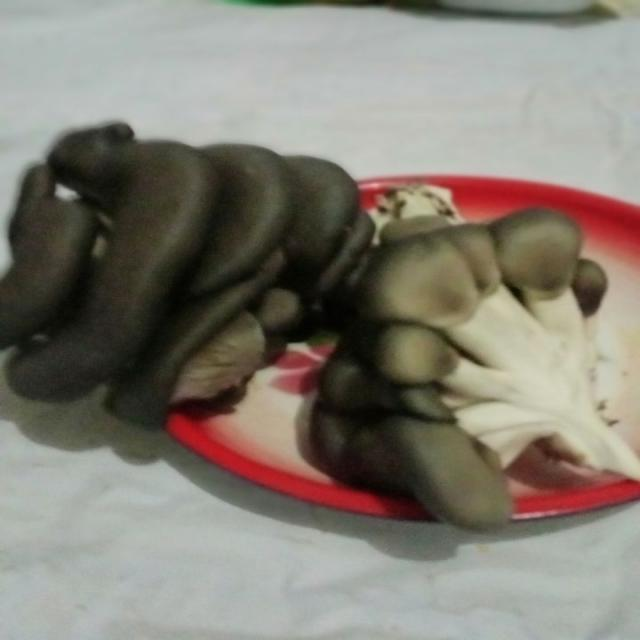Pleurotus ostreatus: (0, 119, 371, 420), (302, 207, 640, 535)
